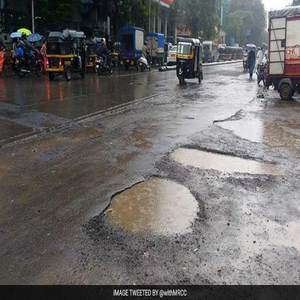pothole: (91, 171, 207, 246), (167, 142, 292, 178)
